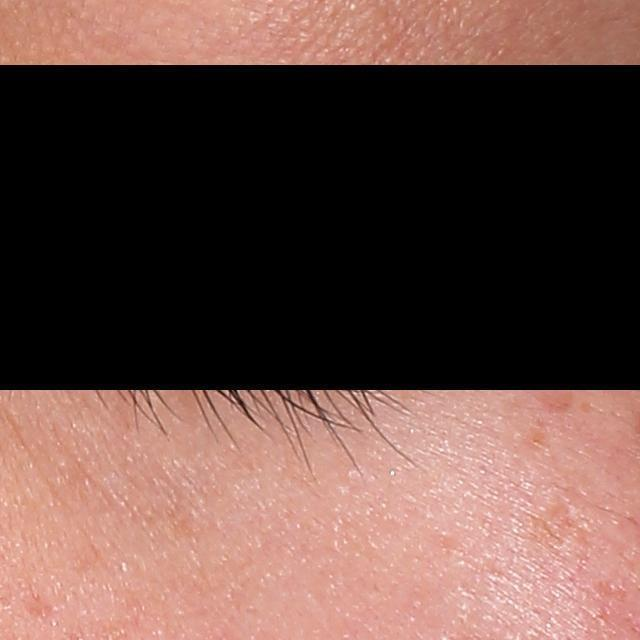melasma: (522, 500, 581, 562)
